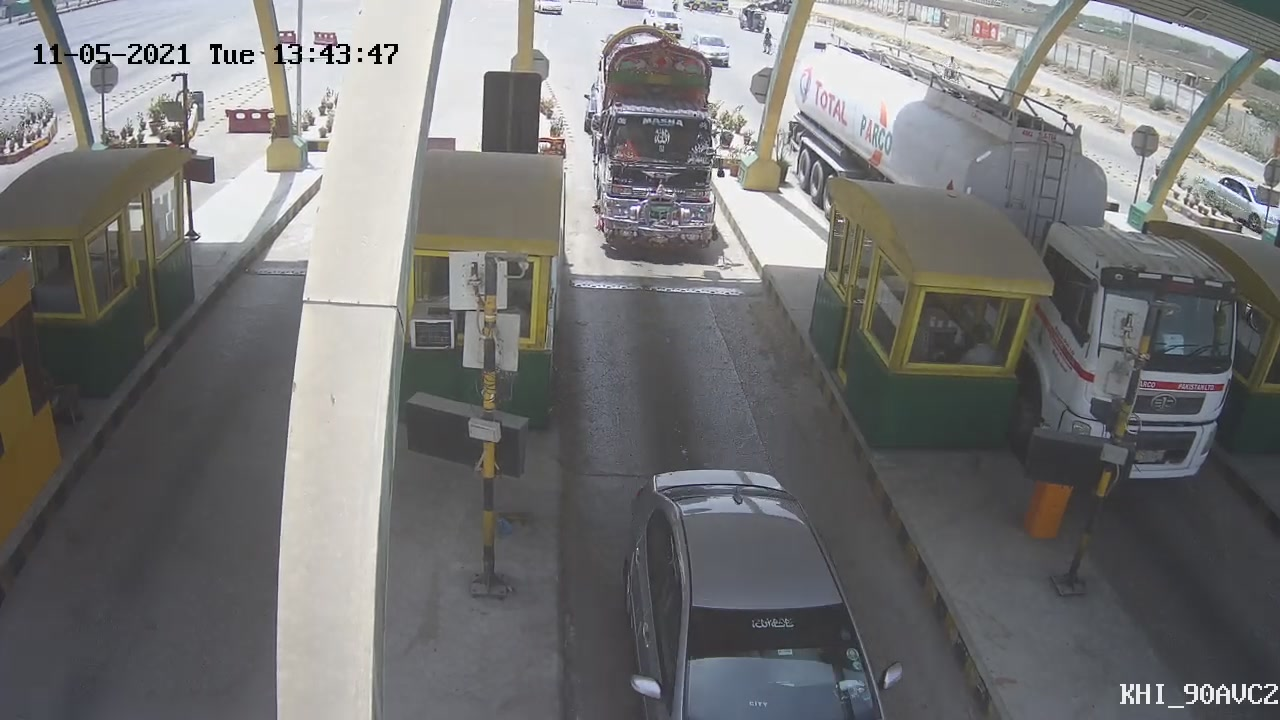F5: (583, 24, 728, 263)
